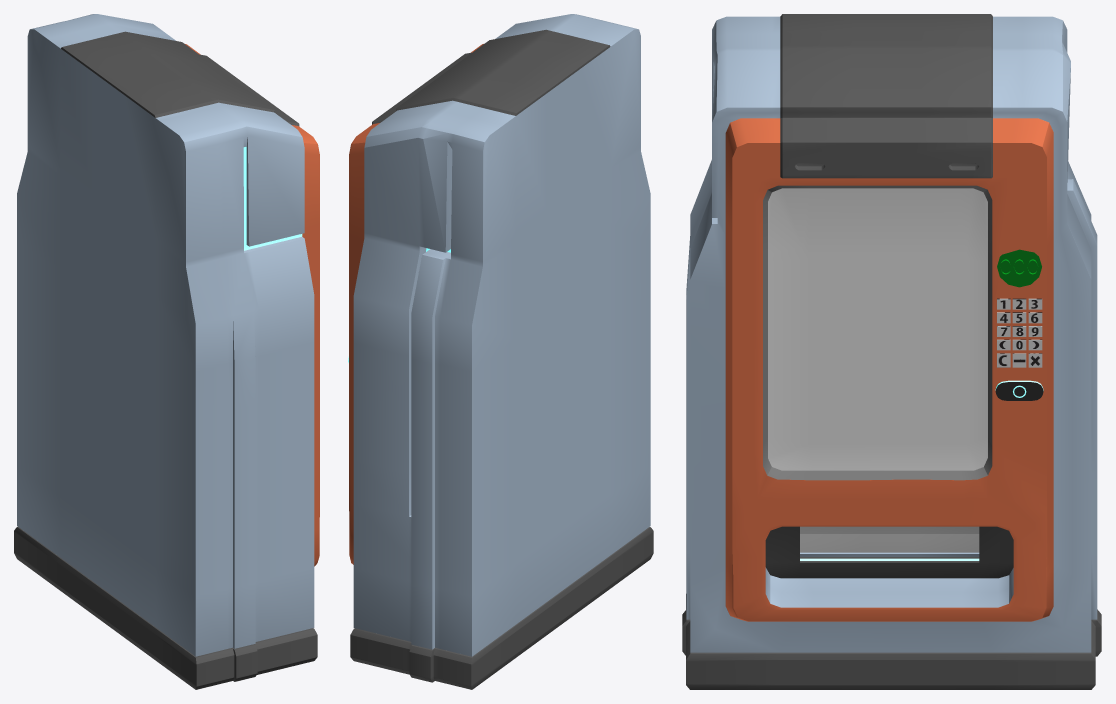
The model's file is Vending_Machine.fbx.
3 views of the same model, side by side, from view 1: azimuth 30°, elevation 25°; view 2: azimuth 150°, elevation 25°; view 3: azimuth 270°, elevation 25° (orthographic). The views are drawn at different scales.
Parts seen in each view (by area): view 1: Vending_Machine; view 2: Vending_Machine; view 3: Vending_Machine.
Boxes of the visible parts, x1,y1,x2,y2 form: Vending_Machine: (14,14,319,689); Vending_Machine: (348,14,653,689); Vending_Machine: (682,14,1101,689).
Size of the model in its own units: 140 by 497 by 309.
11 materials, 1 textured.
